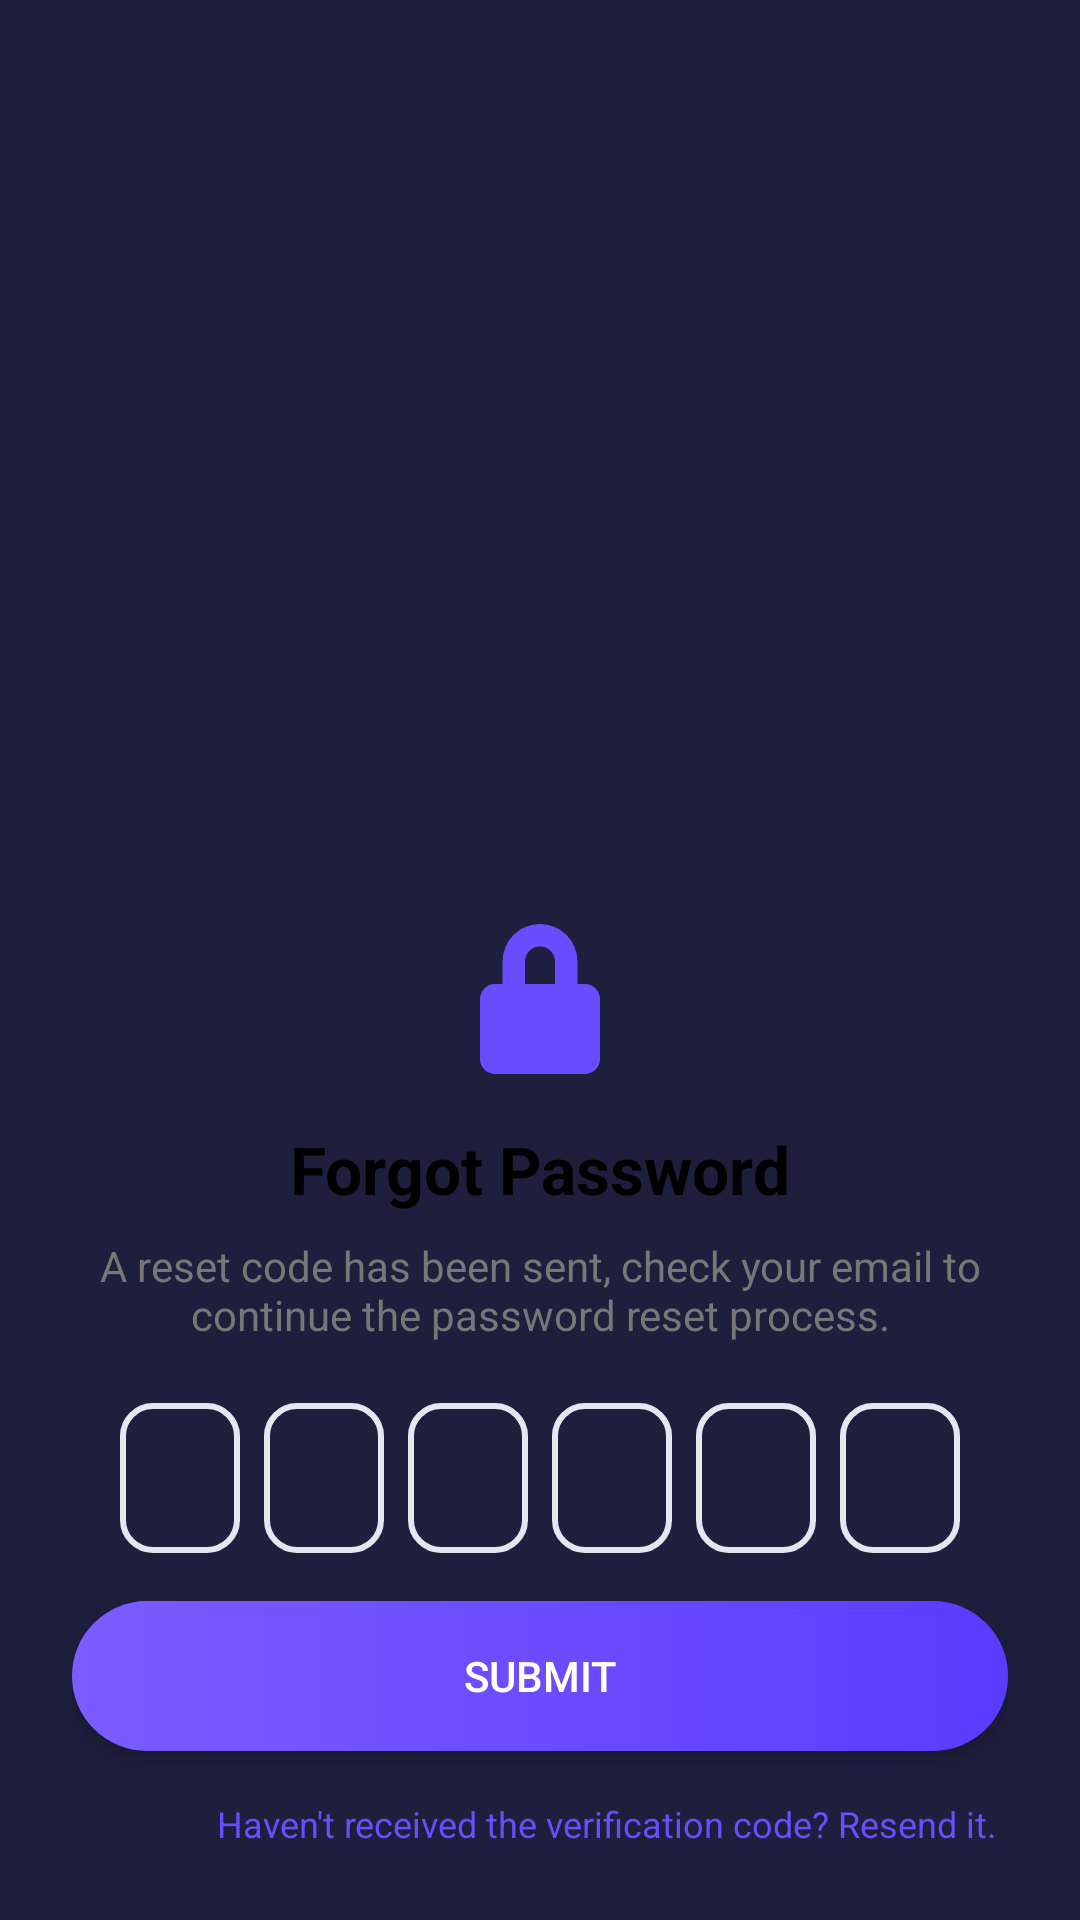

Point at icon controls on the screen. Image size 1080×1920, points as point (x, y).
lock: point (540, 999)
